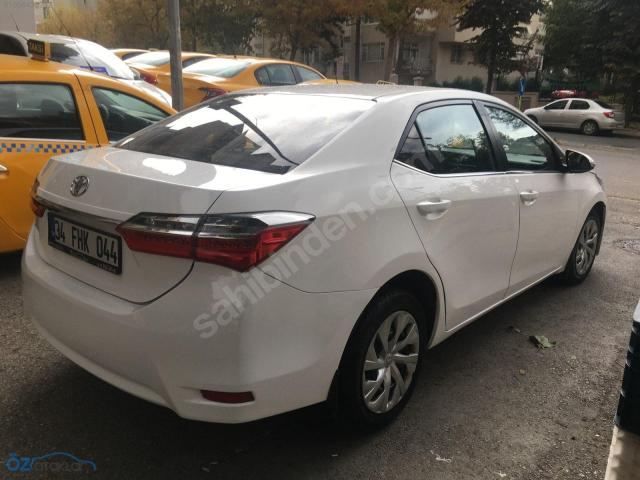plaka: (48, 215, 121, 272)
